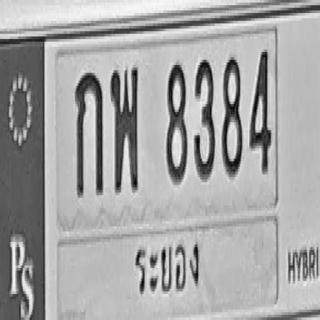A01: (75, 70, 103, 195)
A30: (110, 65, 138, 192)
N03: (193, 57, 214, 179)
N04: (250, 48, 271, 173)
N08: (166, 61, 187, 183), (221, 55, 242, 177)
P53: (133, 230, 202, 306)
